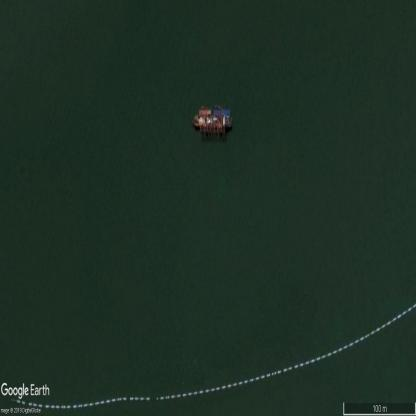ship: (192, 104, 233, 134)
